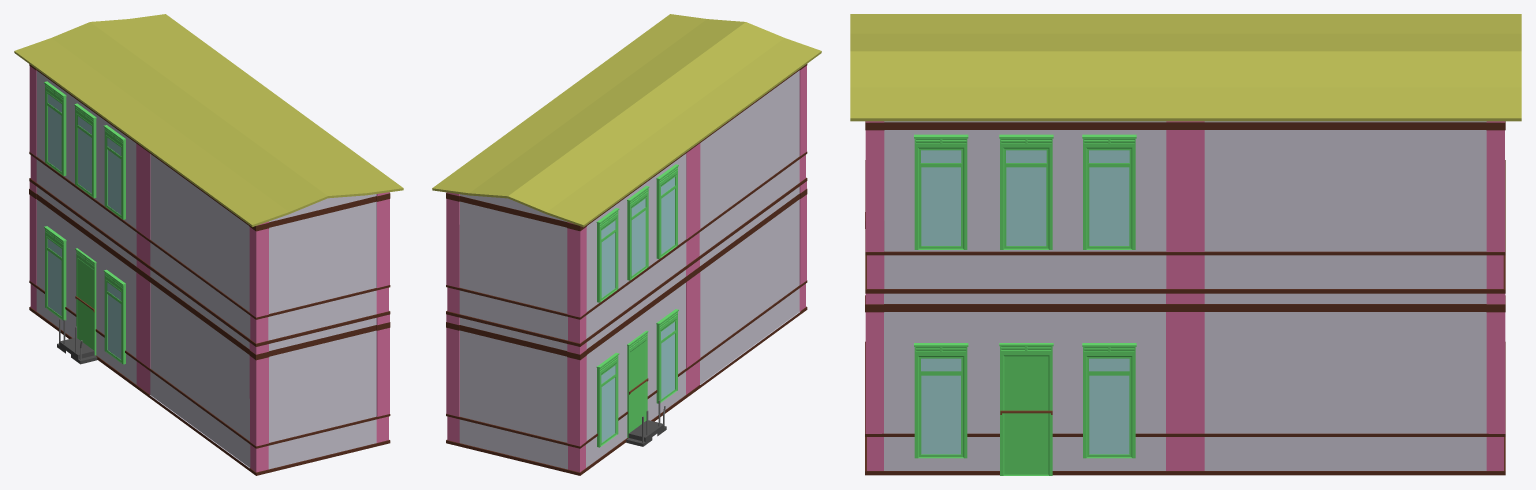
The model's file is House_structure_00_V3.fbx.
The picture shows the model from 3 angles, left to right: view 1: azimuth 30°, elevation 25°; view 2: azimuth 150°, elevation 25°; view 3: azimuth 270°, elevation 25°; orthographic projection. The views are drawn at different scales.
Visible parts, largest first — view 1: House_structure_00.023; view 2: House_structure_00.023; view 3: House_structure_00.023.
Part boxes in pixels (x1,y1,x2,y2): House_structure_00.023: [14, 14, 403, 475]; House_structure_00.023: [432, 14, 821, 475]; House_structure_00.023: [850, 14, 1521, 475].
Bounding box in the file's own units: 475 × 759 × 1224.
